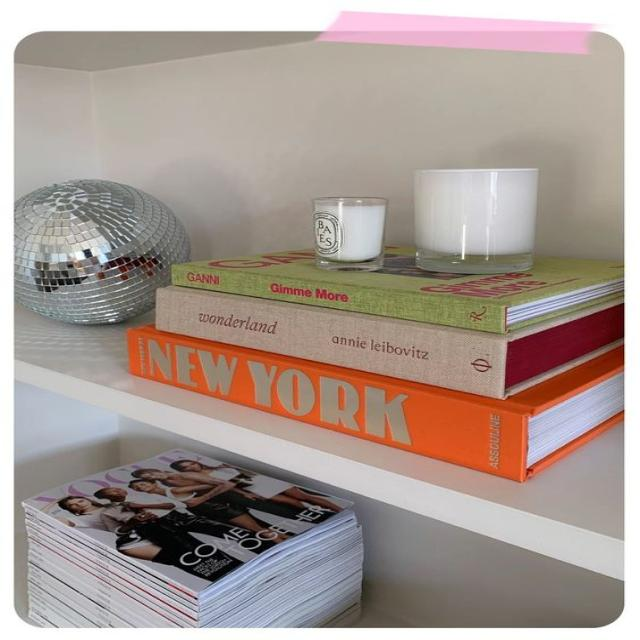book: (129, 330, 531, 482), (156, 288, 504, 397), (174, 265, 507, 333)
candle: (415, 169, 537, 274), (313, 197, 386, 271)
